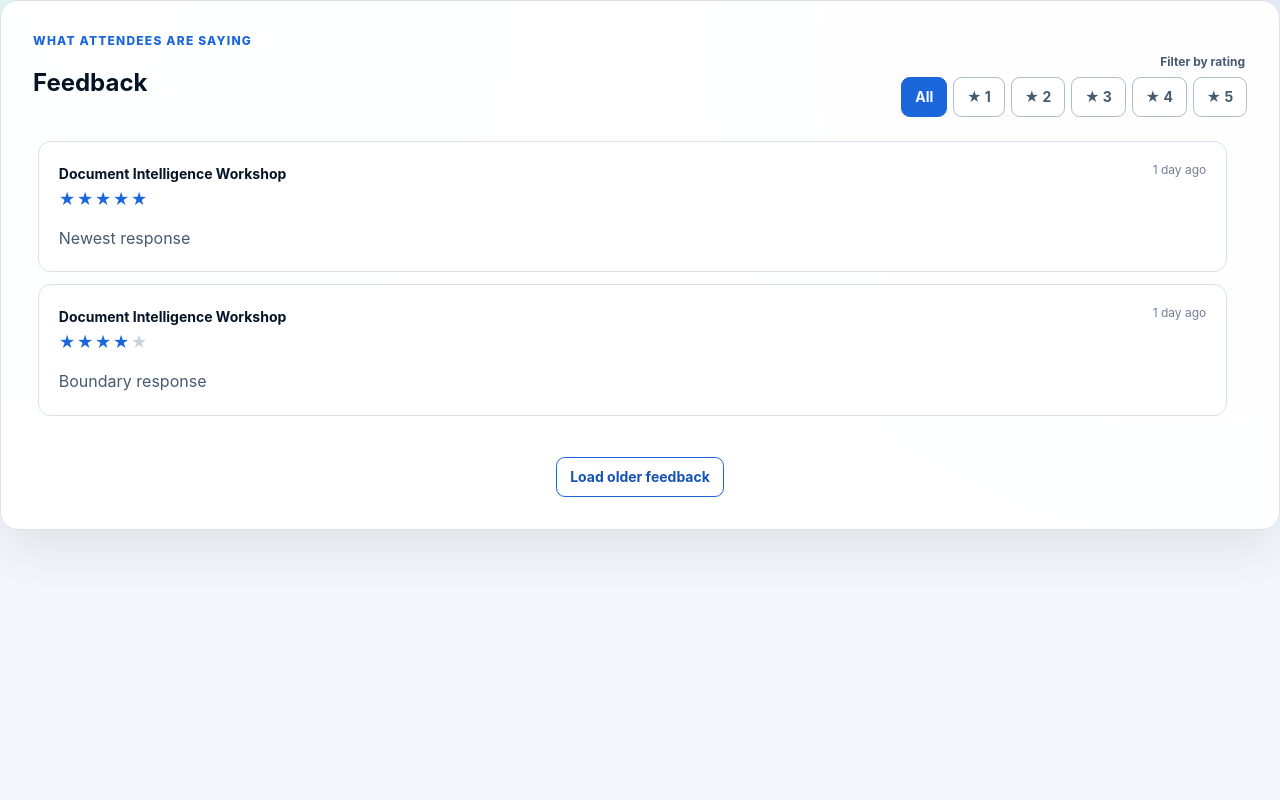
FeedbackStream › appends older feedback without duplicating an existing item
Expected: the text "Boundary response" is shown, [59, 371, 206, 391]
Click the button "Load older feedback".
click(640, 477)  # box [556, 457, 724, 497]
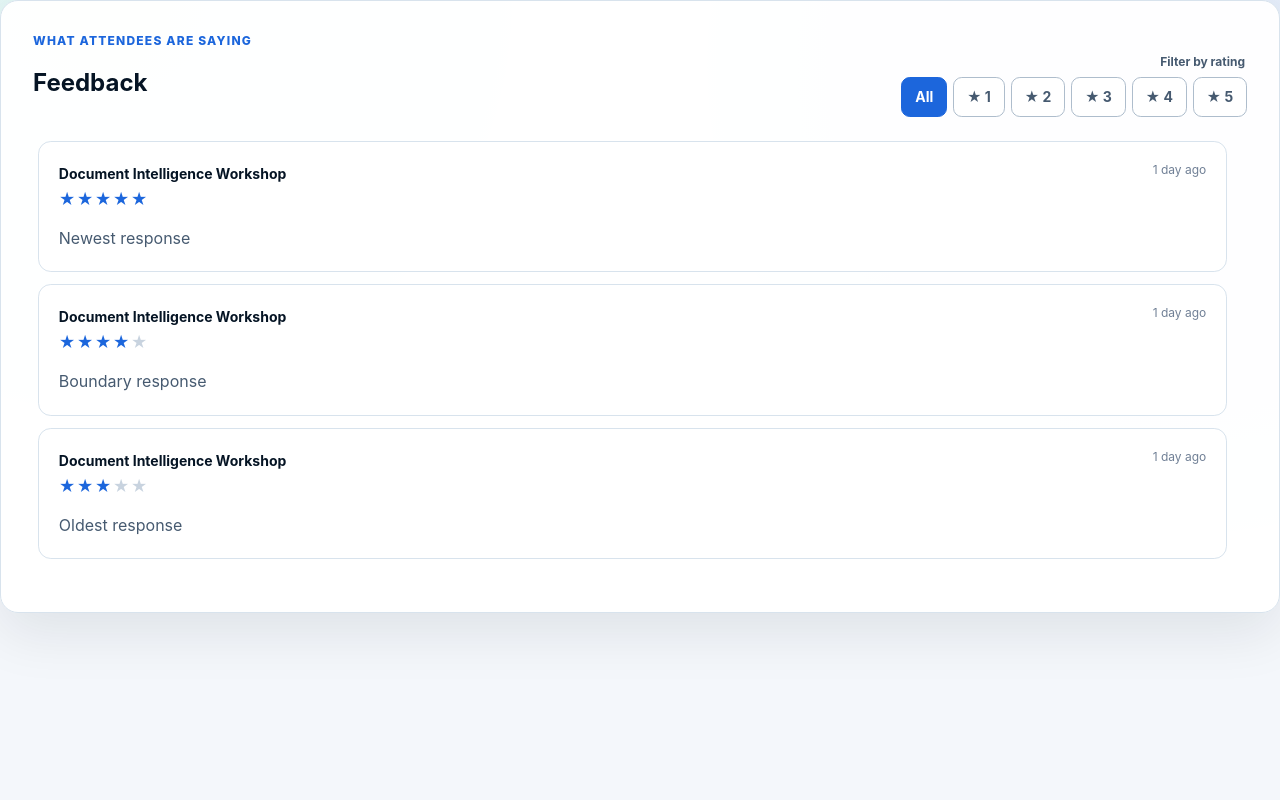
Result: the text "Oldest response" is shown at [59, 515, 182, 535]
Result: the text "Boundary response" is shown once at [59, 371, 206, 391]
Result: the button "Load older feedback" is gone
